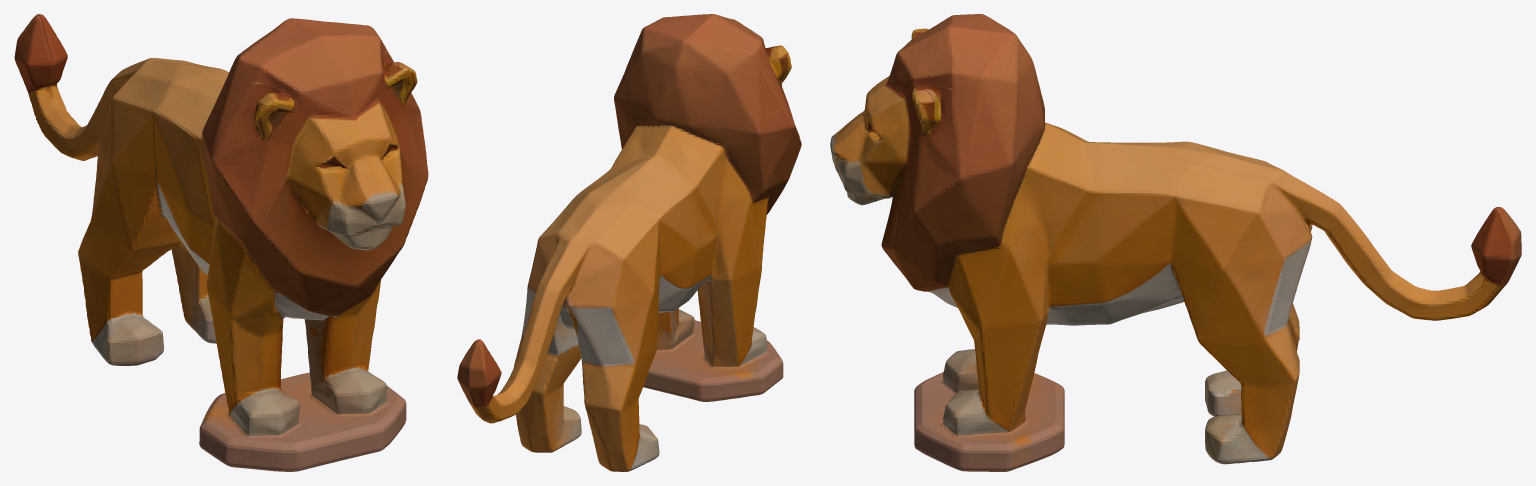
The model's file is lion_1772492258459.glb.
3 renders of one model, left to right at view 1: azimuth 30°, elevation 25°; view 2: azimuth 150°, elevation 25°; view 3: azimuth 270°, elevation 25°, orthographic. The views are drawn at different scales.
Parts seen in each view (by area): view 1: demo_textured.obj; view 2: demo_textured.obj; view 3: demo_textured.obj.
Boxes of the visible parts, x1=… form: demo_textured.obj: x1=14, y1=14, x2=428, y2=471; demo_textured.obj: x1=457, y1=14, x2=801, y2=471; demo_textured.obj: x1=830, y1=14, x2=1521, y2=471.
Size of the model in its own units: 0.6712 by 1.28 by 1.99.
1 material, 1 textured.
